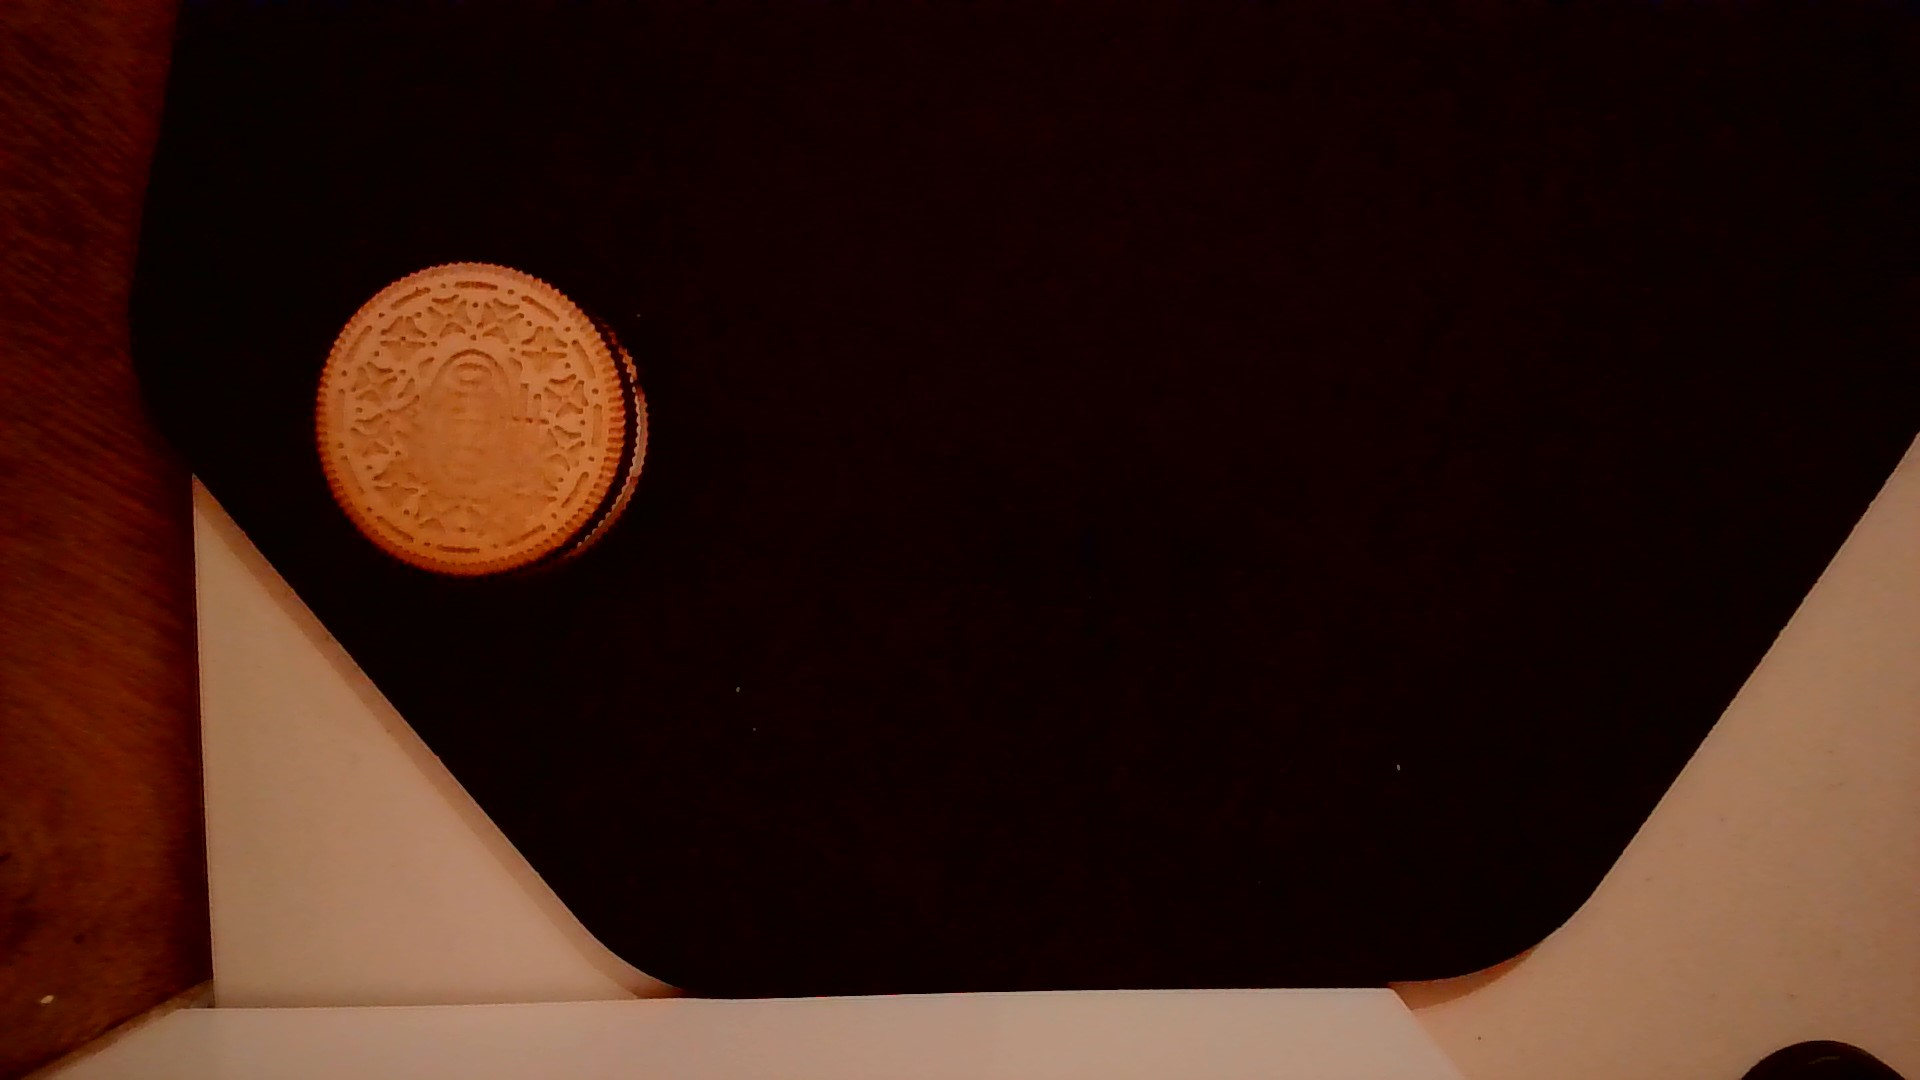Effacé: (407, 386, 542, 518)
Oréo: (301, 251, 657, 587)
